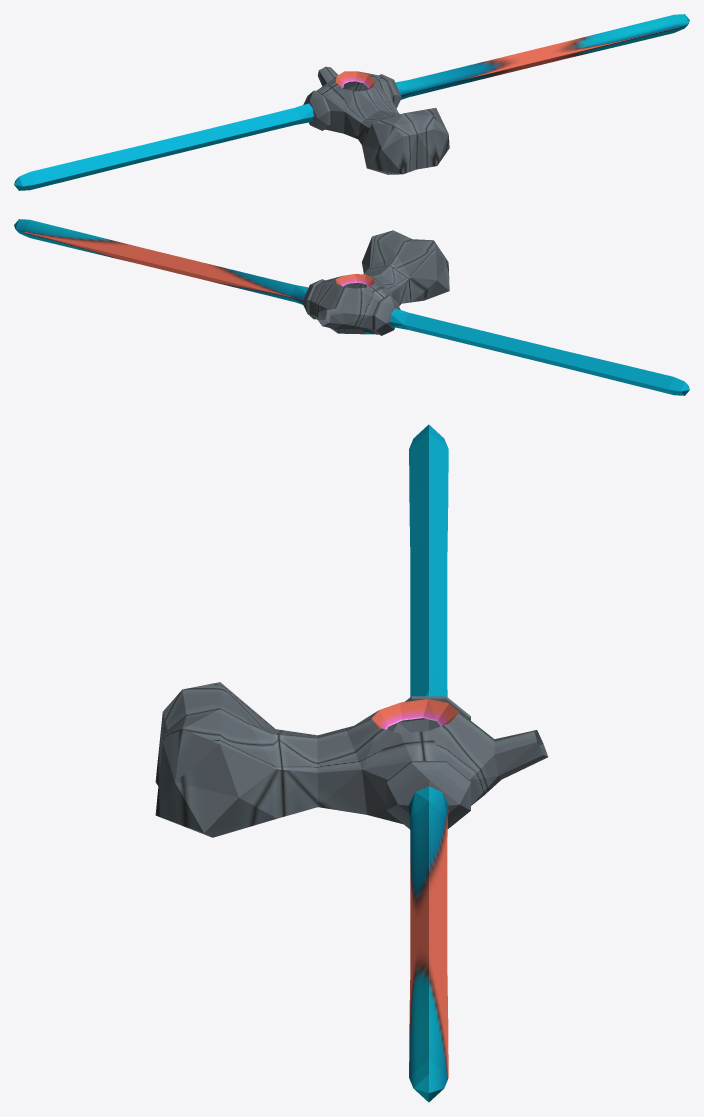
Rendered from BR_Deoxys-Shiny06.obj.
3 renders of one model, top to bottom at view 1: azimuth 30°, elevation 25°; view 2: azimuth 150°, elevation 25°; view 3: azimuth 270°, elevation 25°, orthographic. The views are drawn at different scales.
Visible parts, largest first — view 1: deoxys_sp; view 2: deoxys_sp; view 3: deoxys_sp.
Part boxes in pixels (x1=…): deoxys_sp: x1=14, y1=14, x2=689, y2=190; deoxys_sp: x1=14, y1=219, x2=689, y2=395; deoxys_sp: x1=155, y1=424, x2=548, y2=1102.
Bounding box in the file's own units: 26.7 × 2.21 × 6.72.
Materials: 5 (5 with a texture image).
